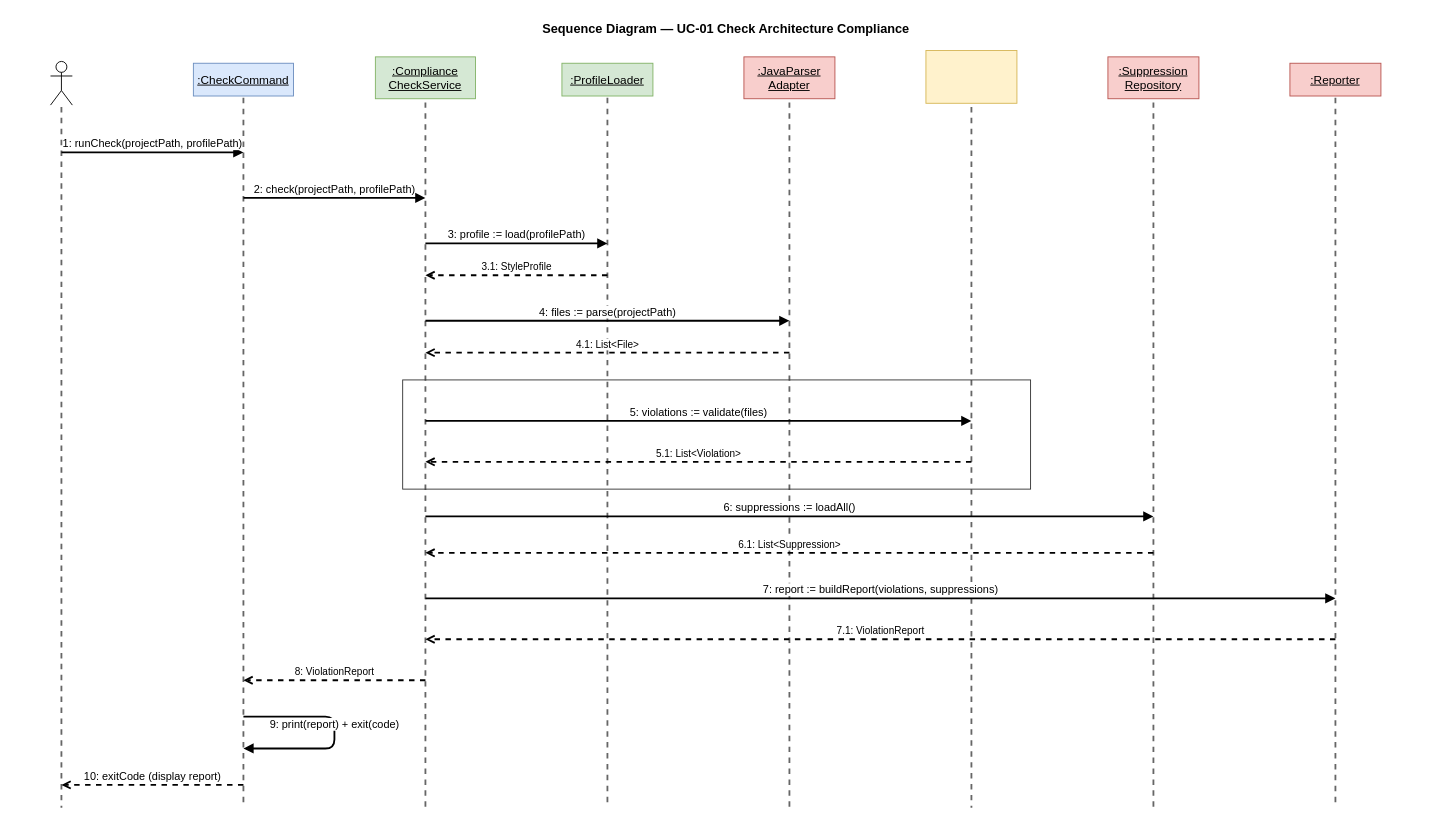
The diagram is 1451 pixels wide and 824 high, and some of its shapes have lost their labels. Each missing label, with the box of its shape:
constraint: Architecture Constraint: (925, 50, 1017, 103)
Developer: (50, 61, 72, 105)
loop [for each constraint in profile]: (402, 379, 1031, 489)
